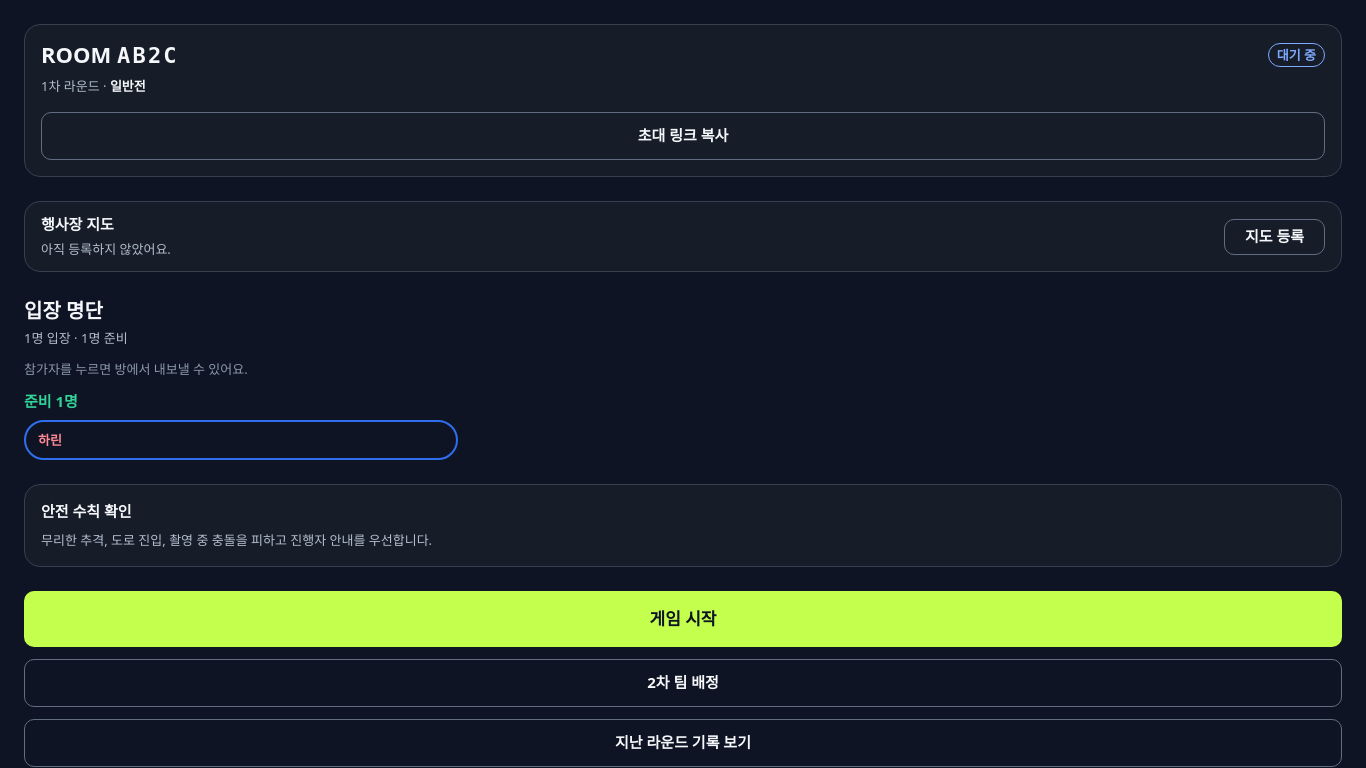
Scenario: WaitingRoomPage › 호스트: 재실행 확인 다이얼로그에서 "다음 팀 배정하기"를 누르면 배정 보드가 열린다
Click the button "게임 시작": (683, 619) x1=24 y1=591 x2=1342 y2=647
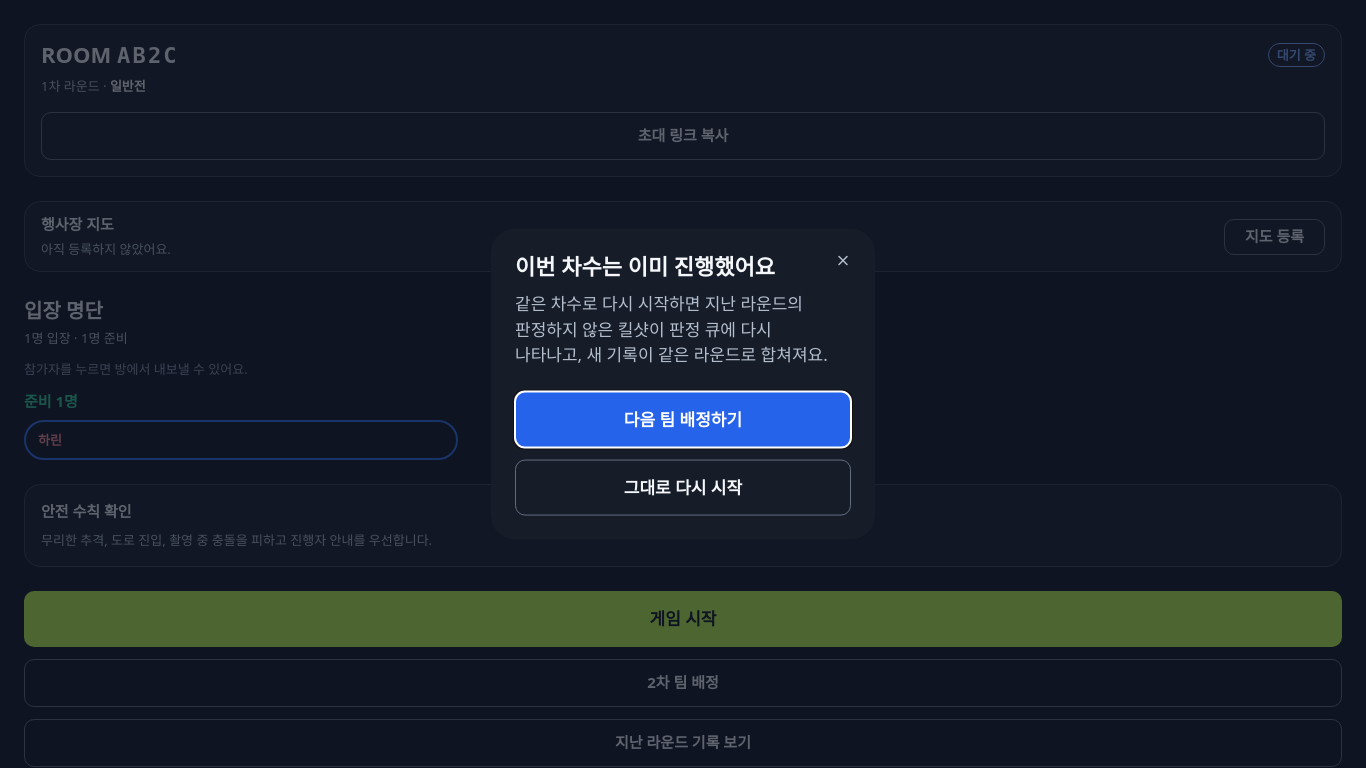
Click the button "다음 팀 배정하기": (683, 419) x1=515 y1=391 x2=851 y2=447
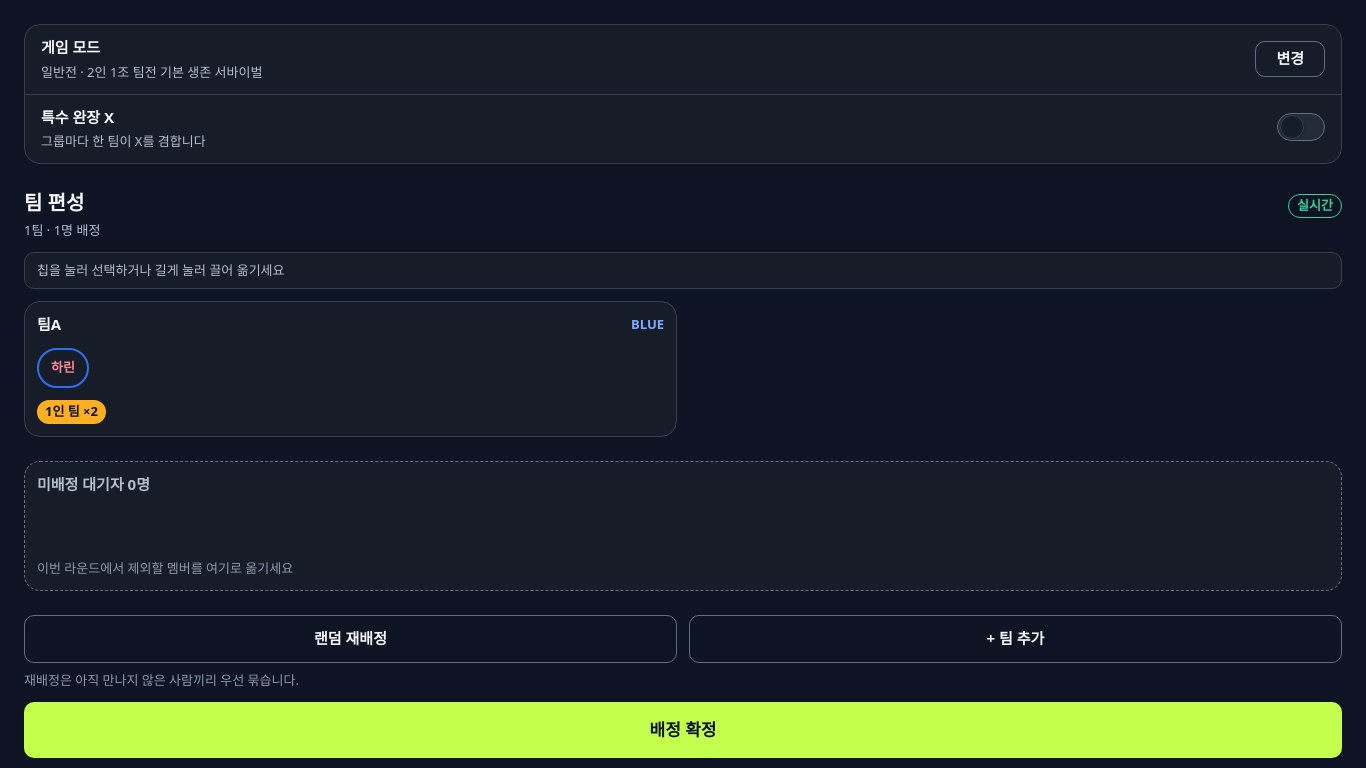
expect the text "팀 편성" is shown: met, box x1=24 y1=189 x2=84 y2=216
